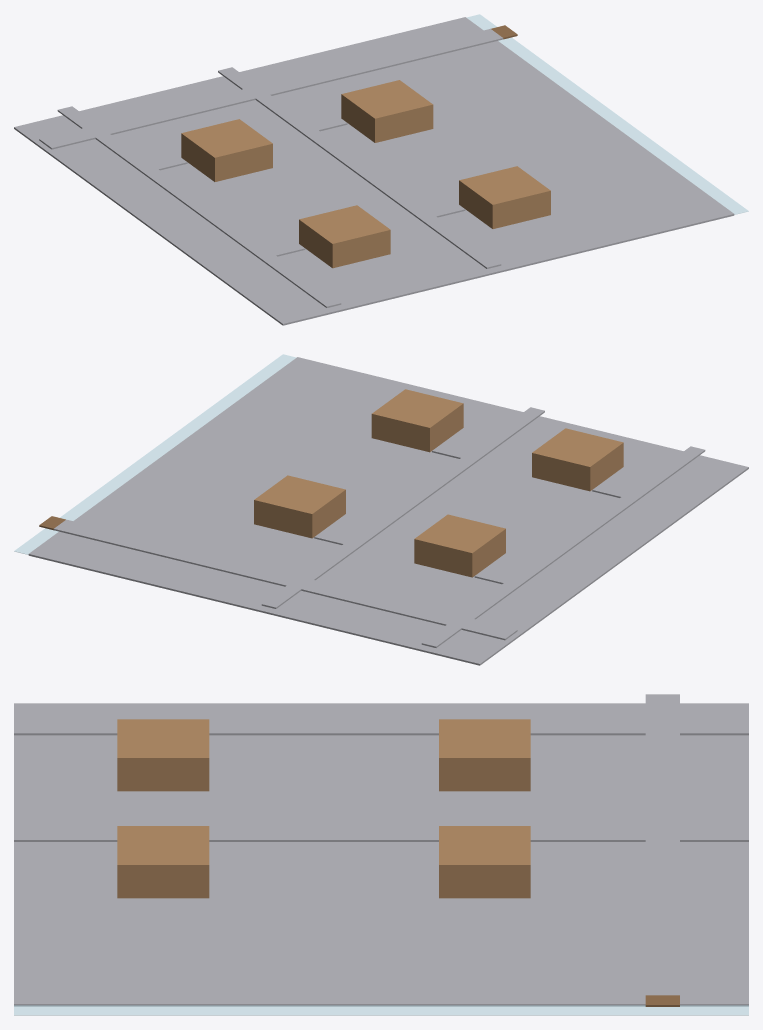
File: city_c02_02.glb
3 views of the same model, one above another, from view 1: azimuth 30°, elevation 25°; view 2: azimuth 150°, elevation 25°; view 3: azimuth 270°, elevation 25° (orthographic). The views are drawn at different scales.
Visible parts, largest first — view 1: terrain_east_proxy__c02_02, road_cross_east__c02_02, road_east_0__c02_02, road_east_1__c02_02, building_055__c02_02, building_066__c02_02, building_065__c02_02, building_056__c02_02, river_water_proxy__c02_02; view 2: terrain_east_proxy__c02_02, road_cross_east__c02_02, road_east_0__c02_02, road_east_1__c02_02, building_065__c02_02, building_056__c02_02, building_055__c02_02, building_066__c02_02, river_water_proxy__c02_02; view 3: terrain_east_proxy__c02_02, road_cross_east__c02_02, river_water_proxy__c02_02, road_east_1__c02_02, building_065__c02_02, building_066__c02_02, building_055__c02_02, building_056__c02_02, road_east_0__c02_02.
Boxes of the visible parts, left/top/right/bottom form: terrain_east_proxy__c02_02: left=14, top=17, right=734, bottom=325; road_cross_east__c02_02: left=39, top=29, right=503, bottom=149; road_east_0__c02_02: left=218, top=67, right=501, bottom=268; road_east_1__c02_02: left=57, top=106, right=341, bottom=307; building_055__c02_02: left=341, top=80, right=433, bottom=142; building_066__c02_02: left=299, top=205, right=390, bottom=268; building_065__c02_02: left=459, top=166, right=550, bottom=228; building_056__c02_02: left=181, top=119, right=272, bottom=181; river_water_proxy__c02_02: left=466, top=14, right=748, bottom=214; terrain_east_proxy__c02_02: left=28, top=357, right=748, bottom=665; road_cross_east__c02_02: left=53, top=519, right=517, bottom=640; road_east_0__c02_02: left=261, top=407, right=544, bottom=608; road_east_1__c02_02: left=421, top=446, right=705, bottom=647; building_065__c02_02: left=371, top=389, right=463, bottom=452; building_056__c02_02: left=414, top=514, right=505, bottom=577; building_055__c02_02: left=254, top=475, right=345, bottom=538; building_066__c02_02: left=532, top=428, right=623, bottom=491; river_water_proxy__c02_02: left=14, top=354, right=296, bottom=554; terrain_east_proxy__c02_02: left=14, top=703, right=748, bottom=1006; road_cross_east__c02_02: left=645, top=694, right=679, bottom=995; river_water_proxy__c02_02: left=14, top=1005, right=748, bottom=1015; road_east_1__c02_02: left=14, top=723, right=748, bottom=735; building_065__c02_02: left=117, top=826, right=209, bottom=898; building_066__c02_02: left=117, top=719, right=209, bottom=791; building_055__c02_02: left=439, top=826, right=530, bottom=898; building_056__c02_02: left=439, top=719, right=530, bottom=791; road_east_0__c02_02: left=14, top=830, right=748, bottom=841.
Bounding box in the file's own units: 128 × 8.6 × 128.
